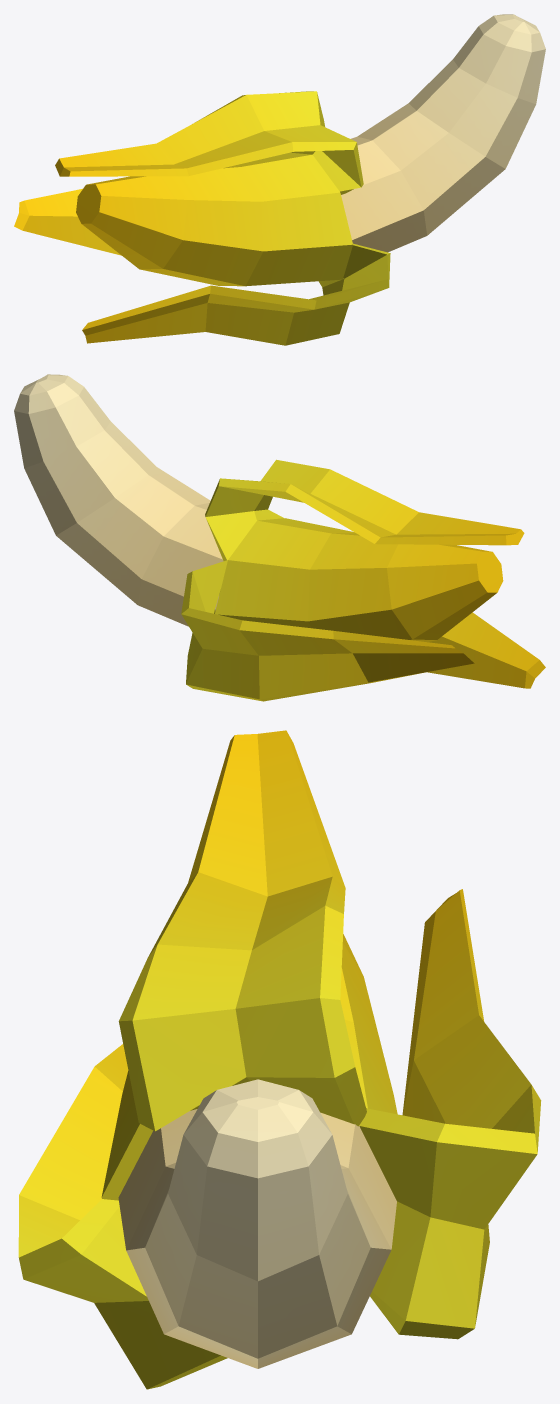
The model's file is Banana Peeled.fbx.
3 views of the same model, one above another, from view 1: azimuth 30°, elevation 25°; view 2: azimuth 150°, elevation 25°; view 3: azimuth 270°, elevation 25° (orthographic). The views are drawn at different scales.
Visible parts, largest first — view 1: Banana Peeled; view 2: Banana Peeled; view 3: Banana Peeled.
Boxes of the visible parts, x1,y1,x2,y2 form: Banana Peeled: (14,14,545,345); Banana Peeled: (14,374,545,701); Banana Peeled: (18,730,541,1389).
Size of the model in its own units: 21.81 by 10.7 by 10.22.
